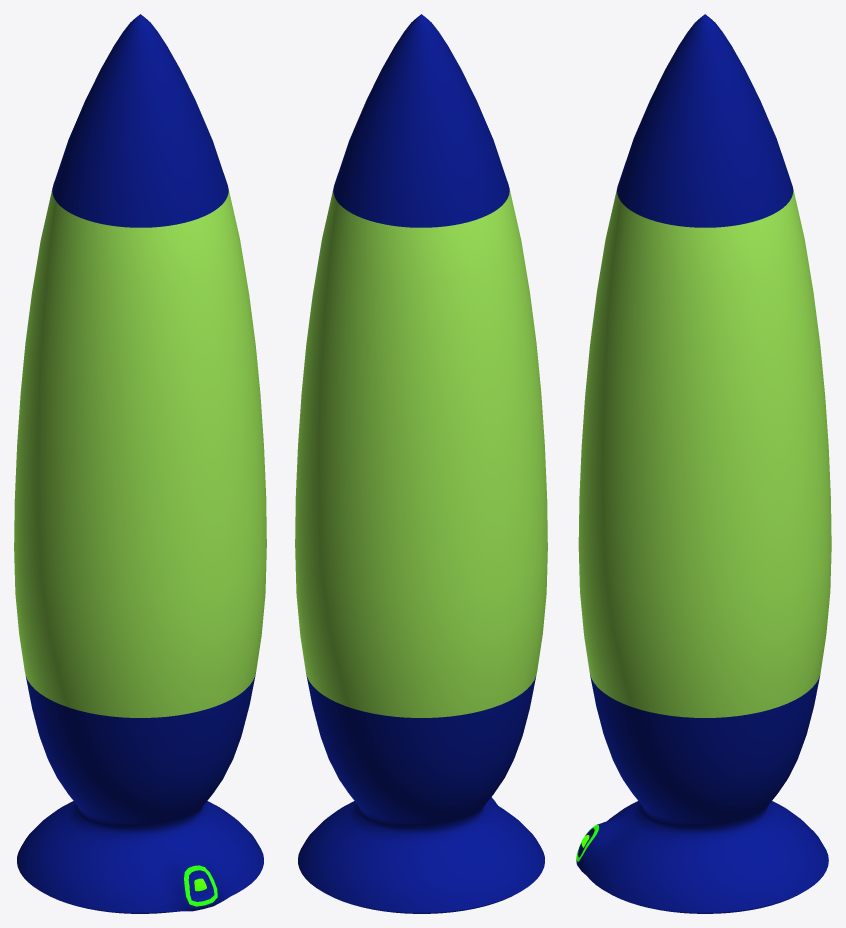
File: lumen-lamp.glb
3 renders of one model, left to right at view 1: azimuth 30°, elevation 25°; view 2: azimuth 150°, elevation 25°; view 3: azimuth 270°, elevation 25°, orthographic.
Parts seen in each view (by area): view 1: Cylinder001; view 2: Cylinder001; view 3: Cylinder001.
Boxes of the visible parts, left/top/right/bottom form: Cylinder001: left=14, top=14, right=266, bottom=913; Cylinder001: left=295, top=14, right=547, bottom=913; Cylinder001: left=576, top=14, right=831, bottom=913.
Bounding box in the file's own units: 2.39 × 8.85 × 2.41.
